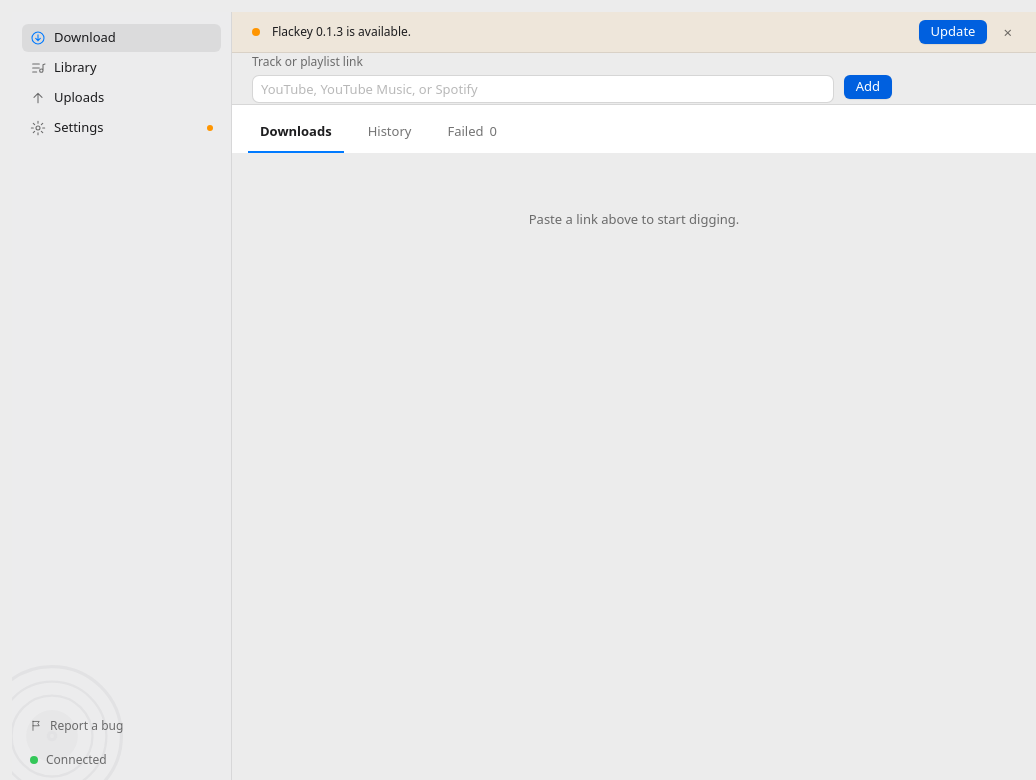
Test case: the update banner › can be waved away, and leaves the sidebar dot behind when it is
The width and height of the screenshot is (1036, 780).
Expected: the text "Flackey 0.1.3 is available." is shown, [272,23,411,40]
Expected: the element with class "nav-badge" is shown, [207,125,213,131]
Step 1. Click the button named "Dismiss" → {"x": 1008, "y": 32}, box [999,22,1016,42]
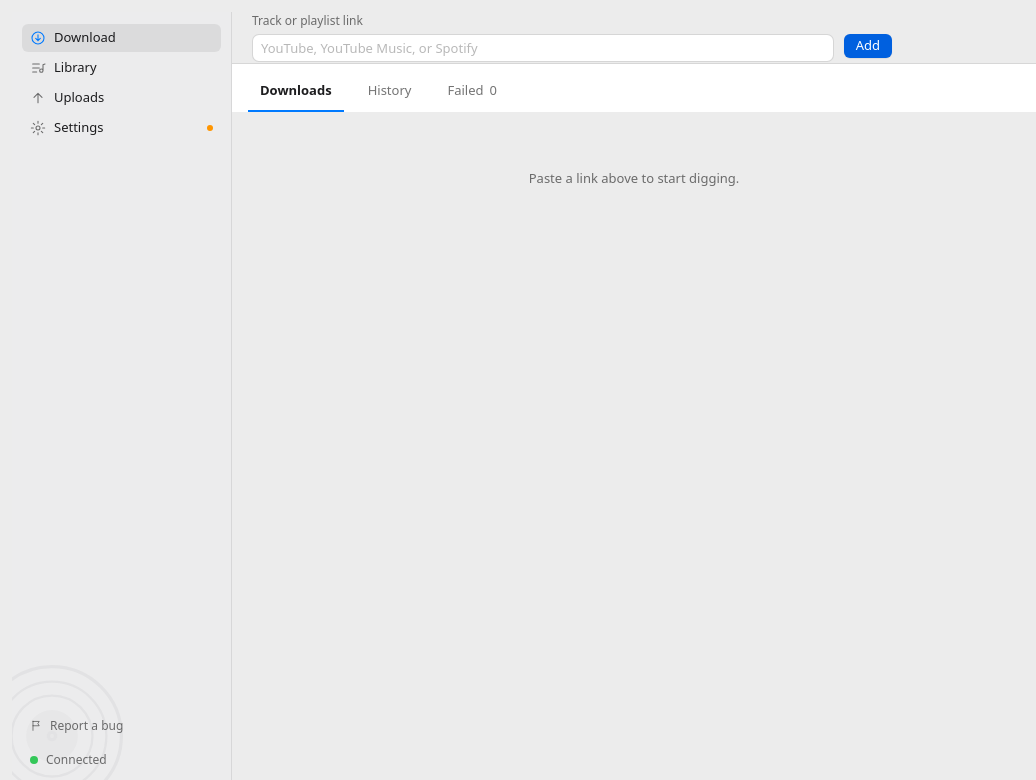
Expected: the element with class "nav-badge" is shown, [207,125,213,131]
Expected: the text "Flackey 0.1.3 is available." is gone
